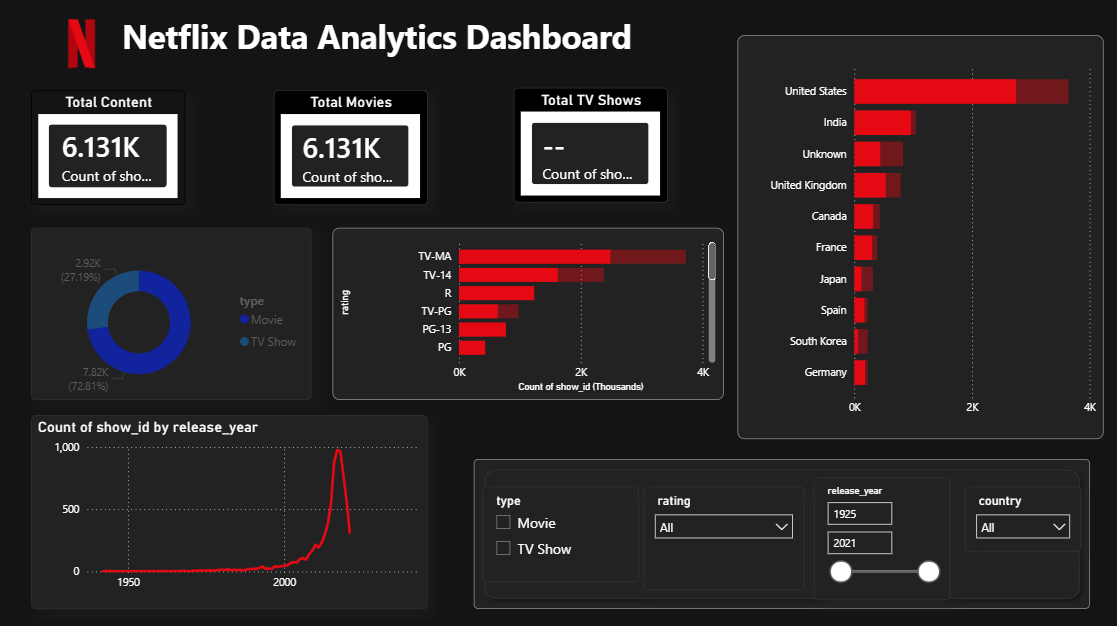

The dashboard page shown, as its layout file describes it:
{"tool":"powerbi","page":{"name":"Page 1","canvas":[1280,720],"ordinal":0},"visuals":[{"type":"shape","box":[541.4,525.7,704.3,171.4],"z":0},{"type":"cardVisual","title":"Total Content","fields":{"Data":["Count(cleaned_netflix_data.show_id)"]},"box":[35.7,104.3,175.7,131.4],"z":1000},{"type":"cardVisual","title":"Total Movies","fields":{"Data":["Count(cleaned_netflix_data.show_id)"]},"box":[312.9,104.3,175.7,131.4],"z":2000},{"type":"donutChart","fields":{"Category":["cleaned_netflix_data.type"],"Y":["CountNonNull(cleaned_netflix_data.show_id)"]},"box":[35.7,261.4,320,197.1],"z":3000},{"type":"clusteredBarChart","fields":{"Category":["cleaned_netflix_data.country"],"Y":["CountNonNull(cleaned_netflix_data.show_id)"]},"box":[842.9,41.4,418.6,461.4],"z":4000},{"type":"lineChart","fields":{"Category":["cleaned_netflix_data.release_year"],"Y":["CountNonNull(cleaned_netflix_data.show_id)"]},"box":[35.7,475.7,452.9,221.4],"z":5000},{"type":"clusteredBarChart","fields":{"Category":["cleaned_netflix_data.rating"],"Y":["CountNonNull(cleaned_netflix_data.show_id)"]},"box":[380,261.4,447.1,197.1],"z":6000},{"type":"slicer","fields":{"Values":["cleaned_netflix_data.type"]},"box":[551.4,557.1,178.6,108.6],"z":7000},{"type":"slicer","fields":{"Values":["cleaned_netflix_data.country"]},"box":[1102.9,557.1,132.9,74.3],"z":8000},{"type":"slicer","fields":{"Values":["cleaned_netflix_data.rating"]},"box":[735.7,557.1,182.9,118.6],"z":9000},{"type":"slicer","fields":{"Values":["cleaned_netflix_data.release_year"]},"box":[930,547.1,155.7,140],"z":10000},{"type":"textbox","box":[114.3,12.9,632.9,91.4],"z":11000},{"type":"cardVisual","title":"Total TV Shows","fields":{"Data":["Count(cleaned_netflix_data.show_id)"]},"box":[587.1,101.4,175.7,131.4],"z":12000},{"type":"image","box":[0,0,186,102],"z":12001}]}

Visuals, with their boxes in screenshot pixels (x1, y1, x2, y2), scaled from the page's 1280x720 canvas onto the 1117x626 screenshot:
shape: <bbox>472, 457, 1087, 606</bbox>
"Total Content" cardVisual: <bbox>31, 91, 184, 205</bbox>
"Total Movies" cardVisual: <bbox>273, 91, 426, 205</bbox>
donutChart - cleaned_netflix_data.type x CountNonNull(cleaned_netflix_data.show_id): <bbox>31, 227, 310, 399</bbox>
clusteredBarChart - cleaned_netflix_data.country x CountNonNull(cleaned_netflix_data.show_id): <bbox>736, 36, 1101, 437</bbox>
lineChart - cleaned_netflix_data.release_year x CountNonNull(cleaned_netflix_data.show_id): <bbox>31, 414, 426, 606</bbox>
clusteredBarChart - cleaned_netflix_data.rating x CountNonNull(cleaned_netflix_data.show_id): <bbox>332, 227, 722, 399</bbox>
slicer - cleaned_netflix_data.type: <bbox>481, 484, 637, 579</bbox>
slicer - cleaned_netflix_data.country: <bbox>962, 484, 1078, 549</bbox>
slicer - cleaned_netflix_data.rating: <bbox>642, 484, 802, 587</bbox>
slicer - cleaned_netflix_data.release_year: <bbox>812, 476, 947, 597</bbox>
textbox: <bbox>100, 11, 652, 91</bbox>
"Total TV Shows" cardVisual: <bbox>512, 88, 666, 202</bbox>
image: <bbox>0, 0, 162, 89</bbox>
